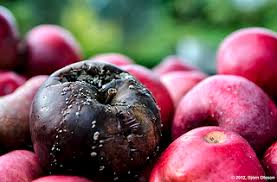damaged_apple: (35, 64, 164, 174)
